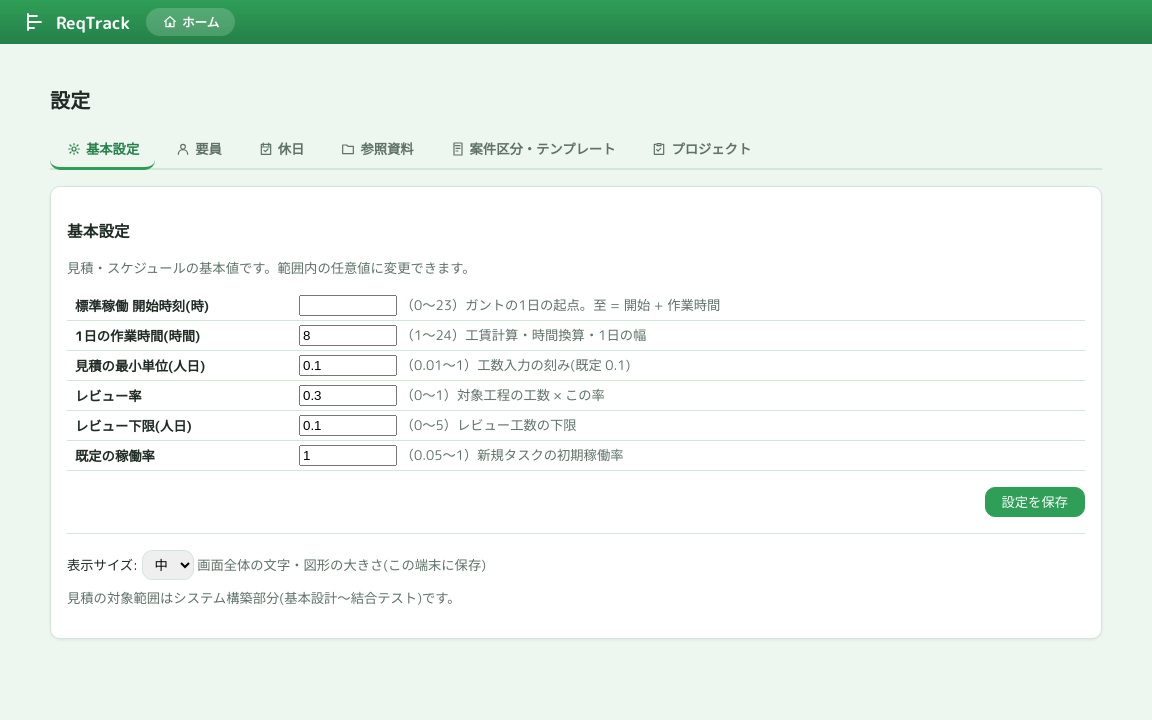
Test: SettingsPage (US-022) › タブを切り替えて要員・休日を登録できる
The width and height of the screenshot is (1152, 720).
Expected: the number field named "1日の作業時間(時間)" is shown, left=299, top=326, right=397, bottom=346
Click the tab "要員" at (198, 151), box left=159, top=131, right=238, bottom=170
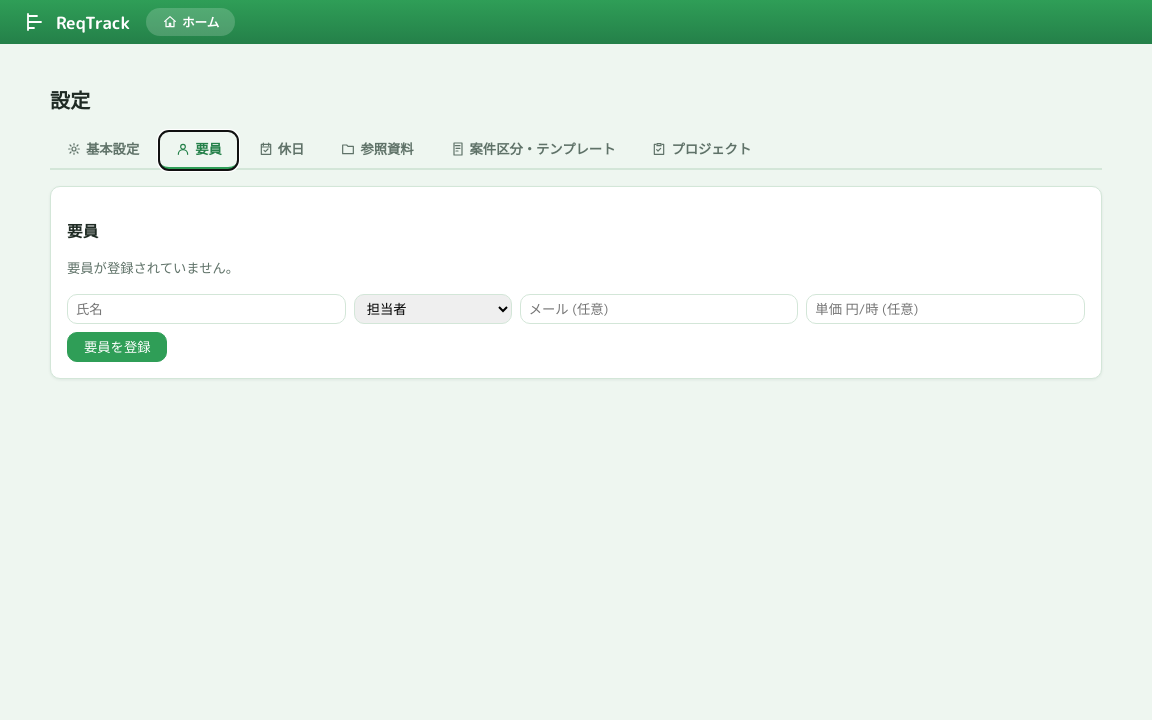
Type "山田 太郎" into the field named "要員氏名" at (206, 309), box left=67, top=294, right=346, bottom=324
Click the button "要員を登録" at (117, 347), box left=67, top=332, right=168, bottom=362
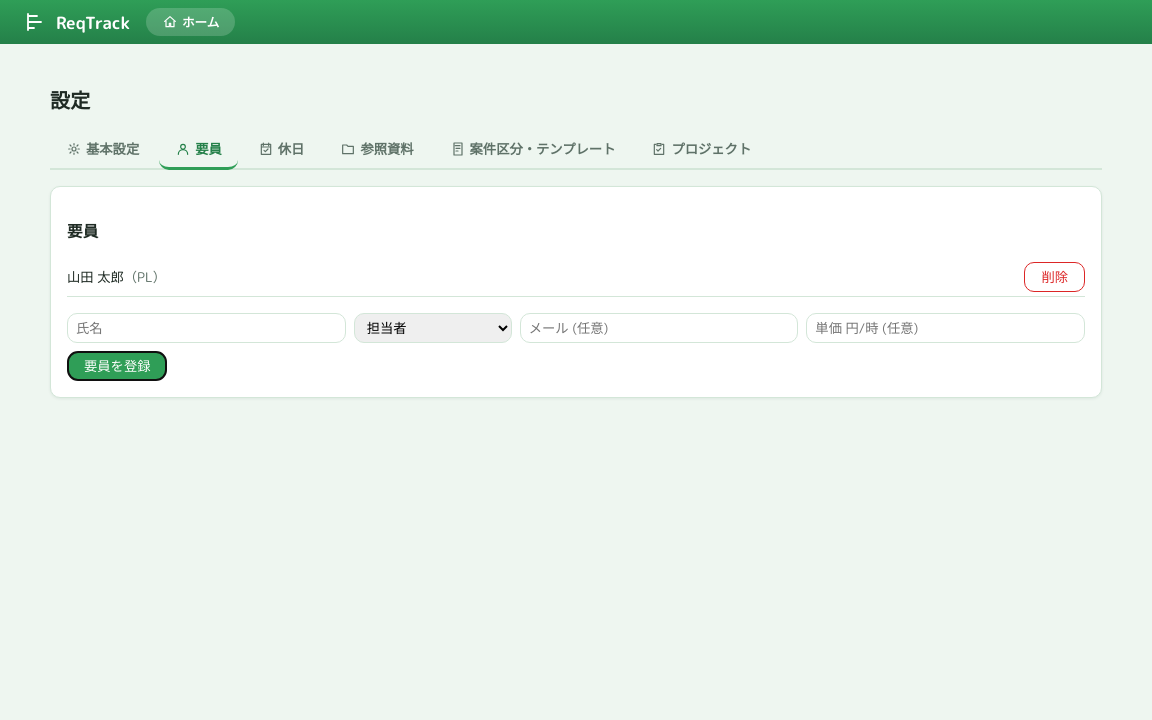
Result: the text "山田 太郎（PL）" is shown at left=67, top=267, right=166, bottom=287
Click the tab "休日" at (281, 151), box left=242, top=131, right=320, bottom=170
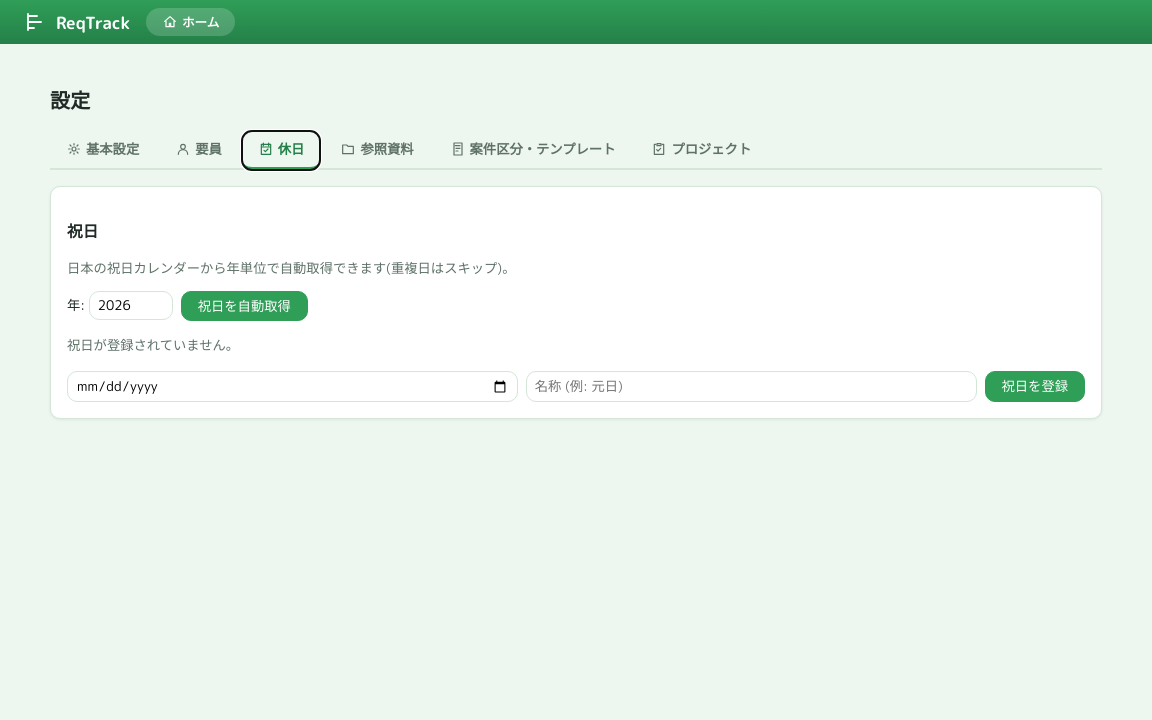
Type "2026-01-01" into the date field named "祝日の日付" at (292, 386), box left=67, top=371, right=518, bottom=402
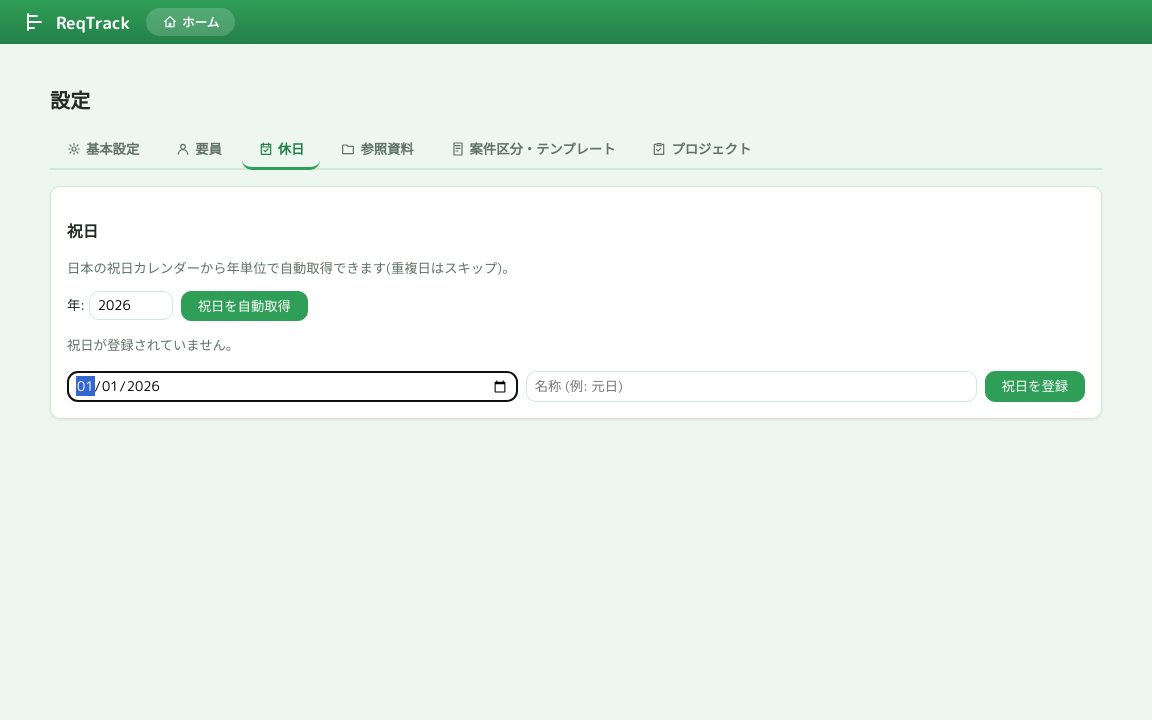
Type "元日" into the field named "祝日の名称" at (751, 386), box left=526, top=371, right=977, bottom=402
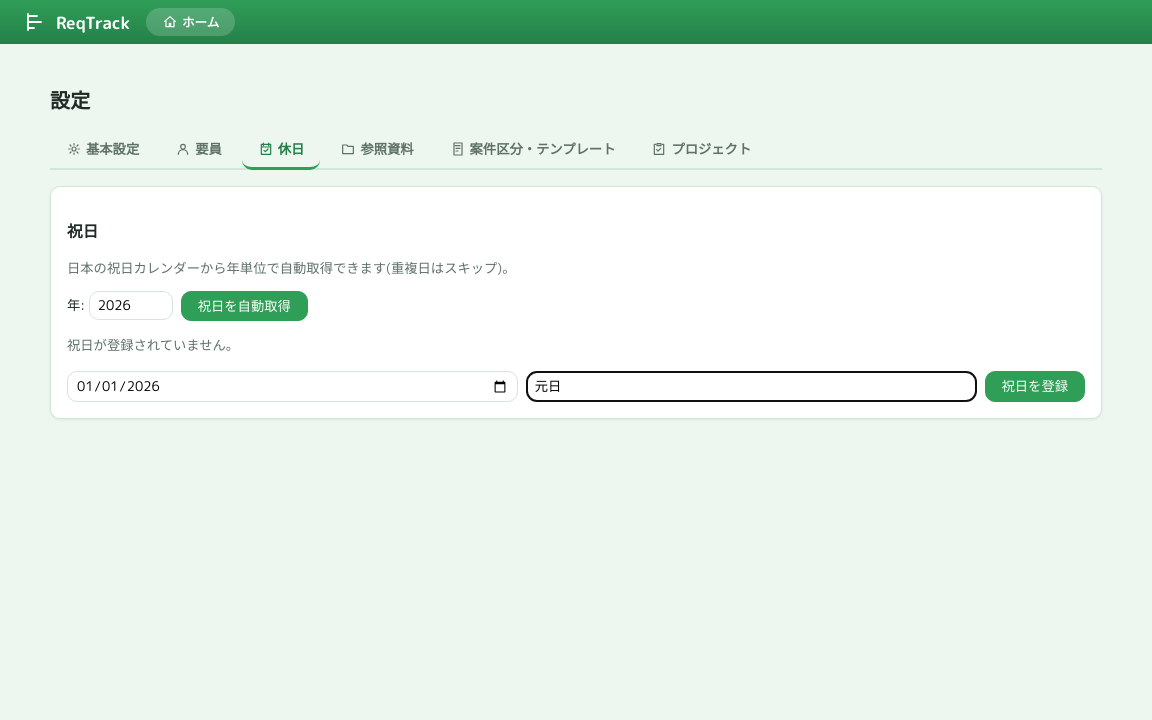
Click the button "祝日を登録" at (1035, 386), box left=984, top=371, right=1085, bottom=402
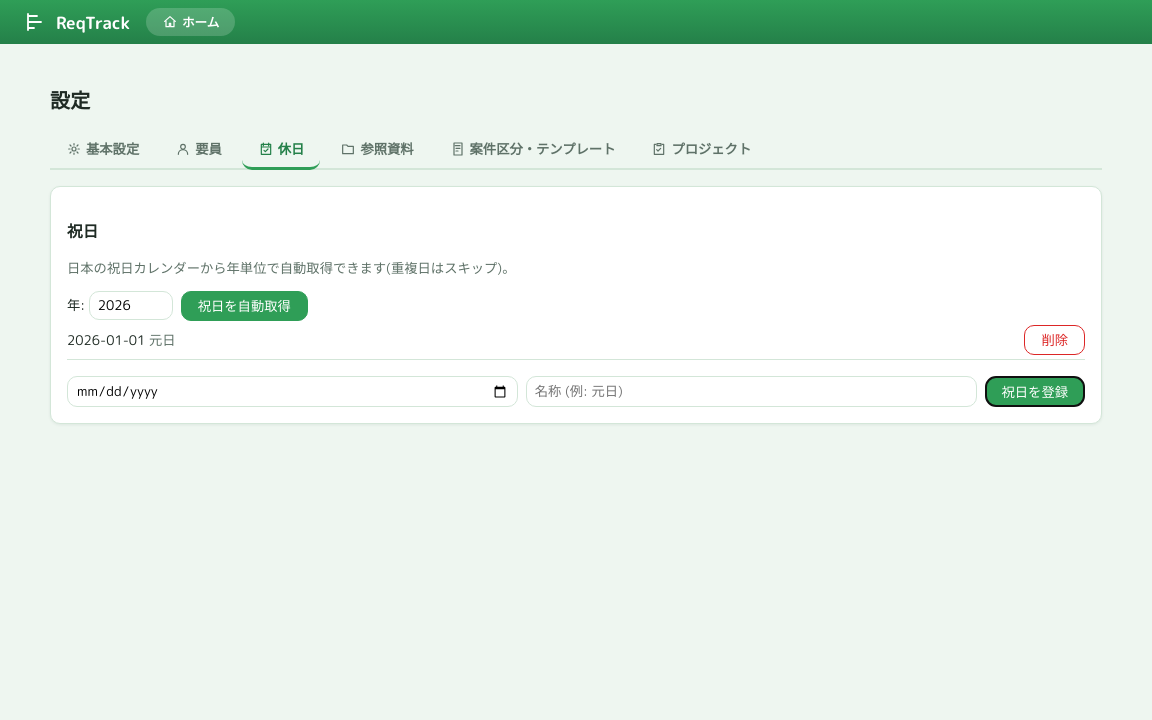
Result: the text "元日" is shown at left=149, top=332, right=176, bottom=350
